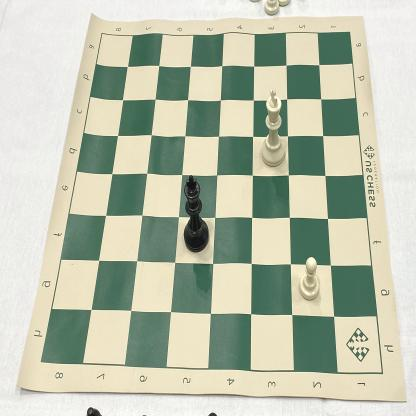black-king: (180, 171, 211, 255)
white-king: (260, 89, 288, 170)
white-pawn: (298, 254, 322, 303)
